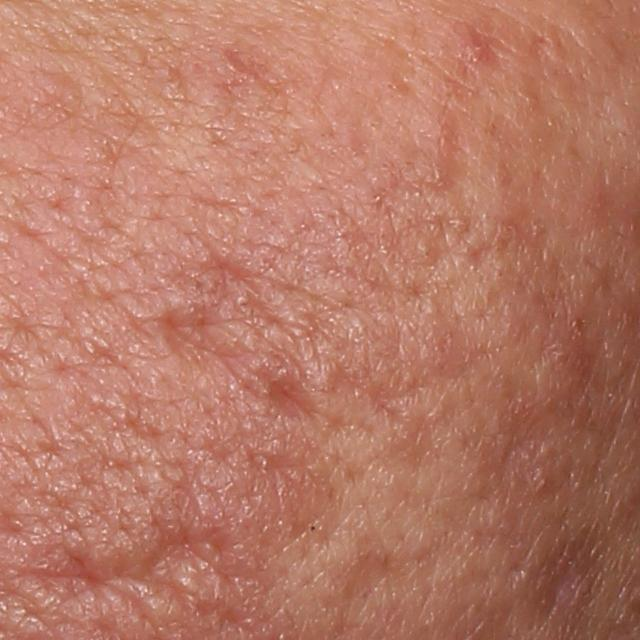atrophic_scar: (11, 508, 244, 629), (154, 303, 260, 387), (264, 366, 320, 434), (540, 559, 585, 621)
papule: (445, 15, 502, 76)
